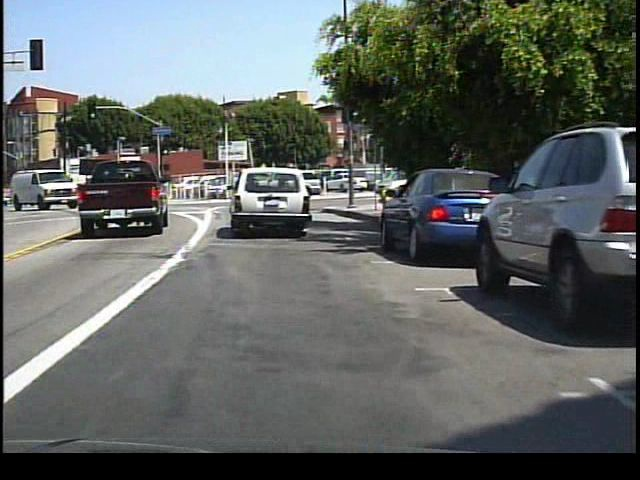person: (345, 168, 360, 199)
